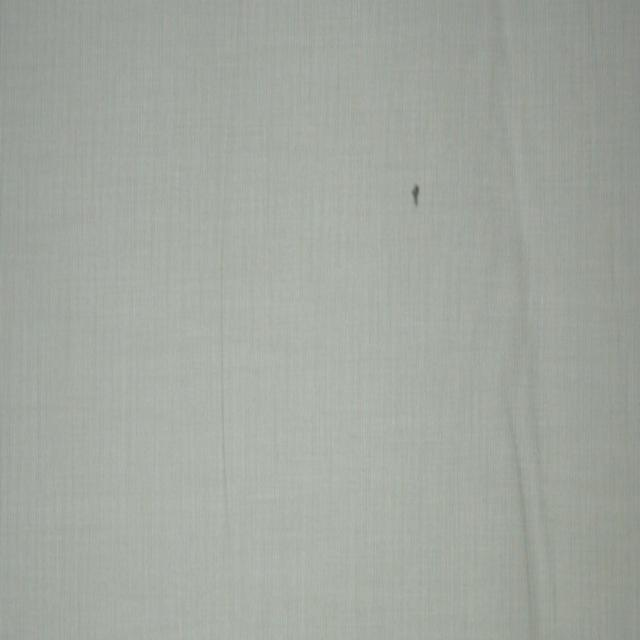dirty: (411, 184, 422, 204)
